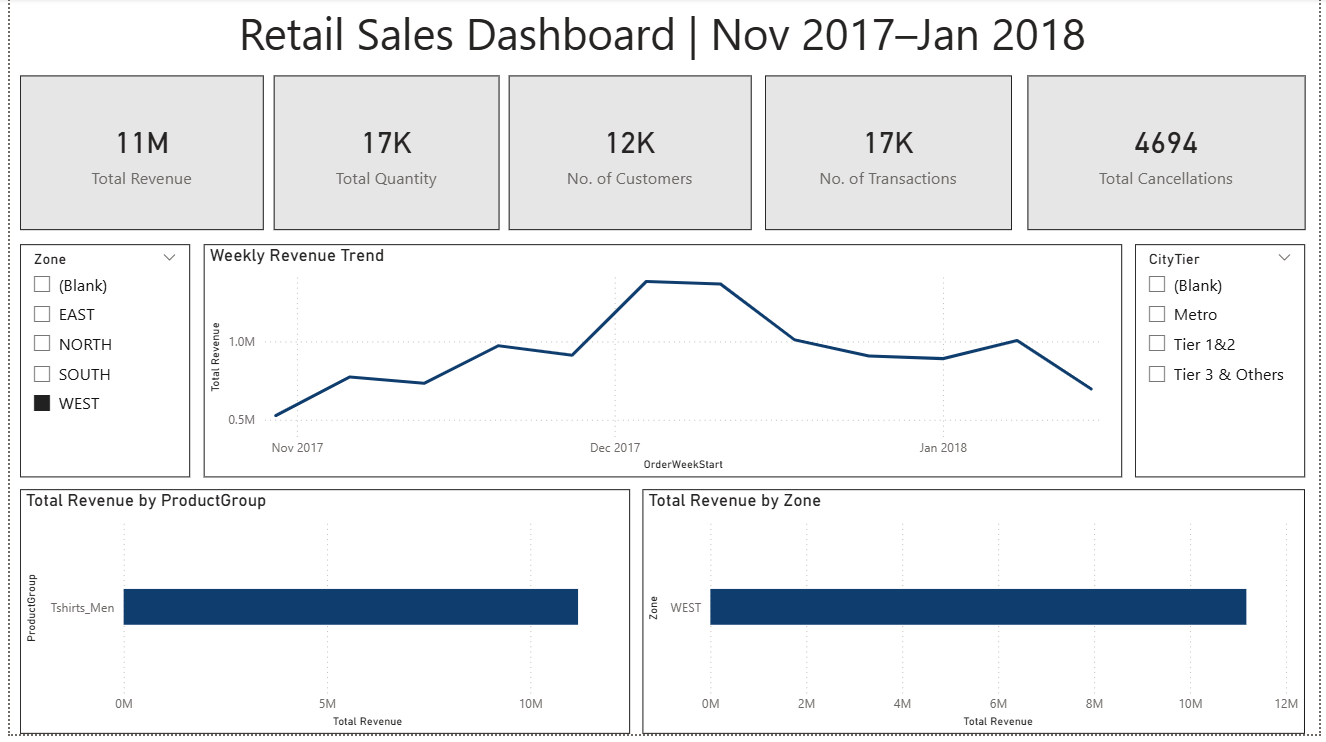

The page's visual inventory and layout, read from the dashboard file:
{"tool":"powerbi","page":{"name":"Page 1","canvas":[1280,720],"ordinal":0},"visuals":[{"type":"card","fields":{"Values":["Sales Raw.Total Revenue"]},"box":[9.6,75.5,238.8,150.9],"z":0},{"type":"card","fields":{"Values":["Mod3_Raw_CityTier_v0 1.Total Quantity"]},"box":[258,75.5,220.9,150.9],"z":1000},{"type":"card","fields":{"Values":["Sales Raw.No. of Customers"]},"box":[488.5,75.5,237.4,150.9],"z":2000},{"type":"card","fields":{"Values":["Sales Raw.No. of Transactions"]},"box":[738.3,75.5,241.5,150.9],"z":3000},{"type":"card","fields":{"Values":["Mod3_Raw_CityTier_v0 1.Total Cancellations"]},"box":[994.9,75.5,271.7,150.9],"z":4000},{"type":"lineChart","title":"Weekly Revenue Trend","fields":{"Y":["Sales Raw.Total Revenue"],"Category":["Sales Raw.OrderWeekStart"]},"box":[190.1,240.8,898.6,228.2],"z":5000},{"type":"clusteredBarChart","fields":{"Category":["Mod3_Raw_ProductMap_v0 1.ProductGroup"],"Y":["Sales Raw.Total Revenue"]},"box":[9.9,480.3,597.2,239.4],"z":6000},{"type":"clusteredBarChart","fields":{"Category":["PinCode-Geo.Zone"],"Y":["Sales Raw.Total Revenue"]},"box":[618.3,480.3,647.9,239.4],"z":7000},{"type":"slicer","fields":{"Values":["PinCode-Geo.Zone"]},"box":[9.9,240.8,166.2,228.2],"z":8000},{"type":"slicer","fields":{"Values":["Mod3_Raw_CityTier_v0 1.CityTier"]},"box":[1100,240.8,166.2,228.2],"z":9000},{"type":"textbox","box":[218.3,0,842.3,71.8],"z":10000}]}

Visuals, with their boxes in screenshot pixels (x1, y1, x2, y2), scaled from the page's 1280x720 canvas onto the 1326x742 screenshot:
card - Sales Raw.Total Revenue: Rect(10, 78, 257, 233)
card - Mod3_Raw_CityTier_v0 1.Total Quantity: Rect(267, 78, 496, 233)
card - Sales Raw.No. of Customers: Rect(506, 78, 752, 233)
card - Sales Raw.No. of Transactions: Rect(765, 78, 1015, 233)
card - Mod3_Raw_CityTier_v0 1.Total Cancellations: Rect(1031, 78, 1312, 233)
"Weekly Revenue Trend" lineChart: Rect(197, 248, 1128, 483)
clusteredBarChart - Mod3_Raw_ProductMap_v0 1.ProductGroup x Sales Raw.Total Revenue: Rect(10, 495, 629, 741)
clusteredBarChart - PinCode-Geo.Zone x Sales Raw.Total Revenue: Rect(641, 495, 1312, 741)
slicer - PinCode-Geo.Zone: Rect(10, 248, 182, 483)
slicer - Mod3_Raw_CityTier_v0 1.CityTier: Rect(1140, 248, 1312, 483)
textbox: Rect(226, 0, 1099, 74)
